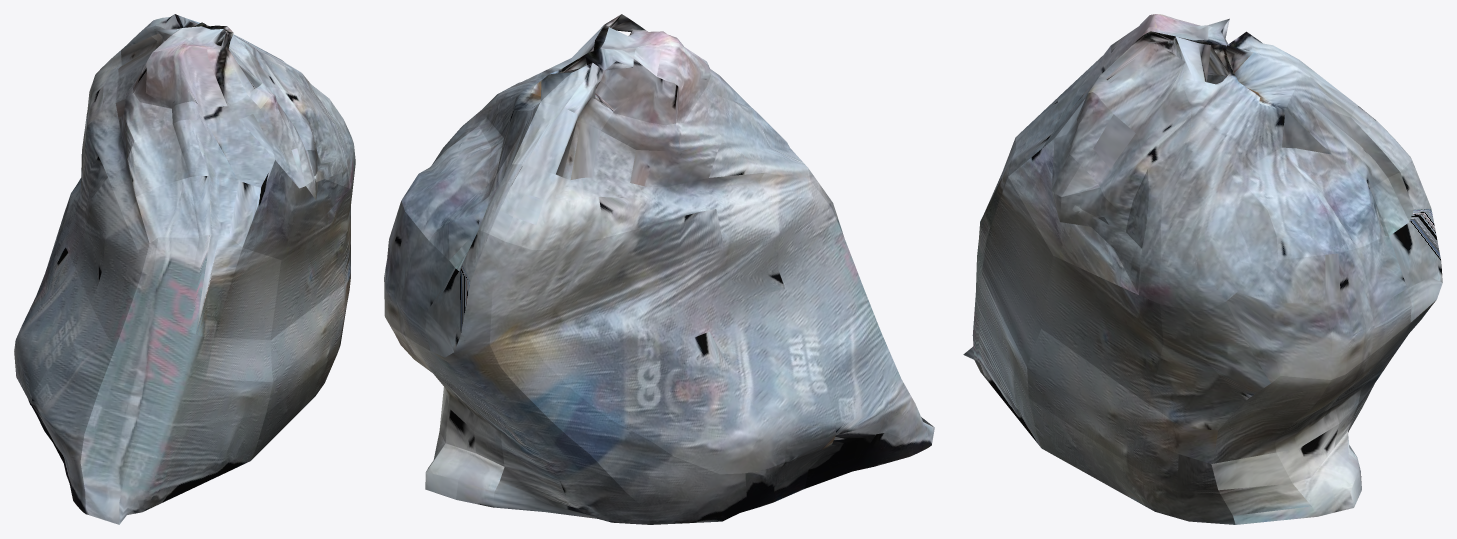
The model's file is Garbage_bag1.fbx.
The picture shows the model from 3 angles, left to right: view 1: azimuth 30°, elevation 25°; view 2: azimuth 150°, elevation 25°; view 3: azimuth 270°, elevation 25°; orthographic projection. The views are drawn at different scales.
Parts seen in each view (by area): view 1: Garbage_bag1; view 2: Garbage_bag1; view 3: Garbage_bag1.
Part boxes in pixels (x1,y1,x2,y2): Garbage_bag1: (14, 14, 355, 524); Garbage_bag1: (384, 14, 934, 524); Garbage_bag1: (963, 14, 1442, 524).
Bounding box in the file's own units: 64.18 × 64.97 × 65.01.
1 material, 1 textured.
